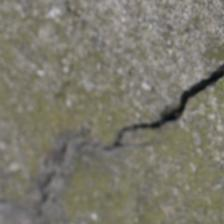Crack: (52, 35, 169, 120)
